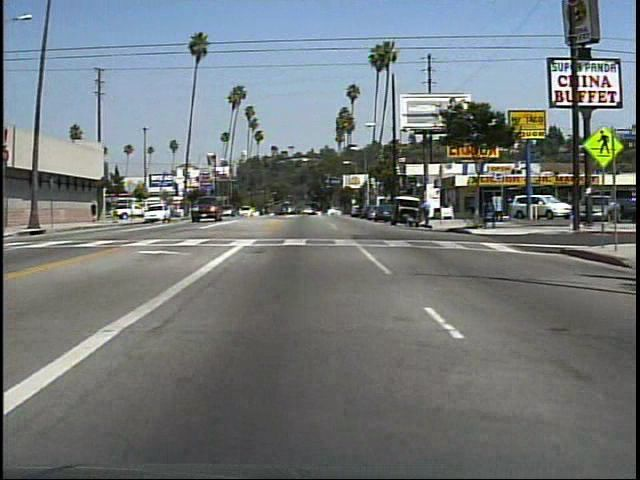person: (421, 197, 434, 229), (465, 194, 478, 221), (403, 212, 421, 230), (91, 199, 100, 227)
